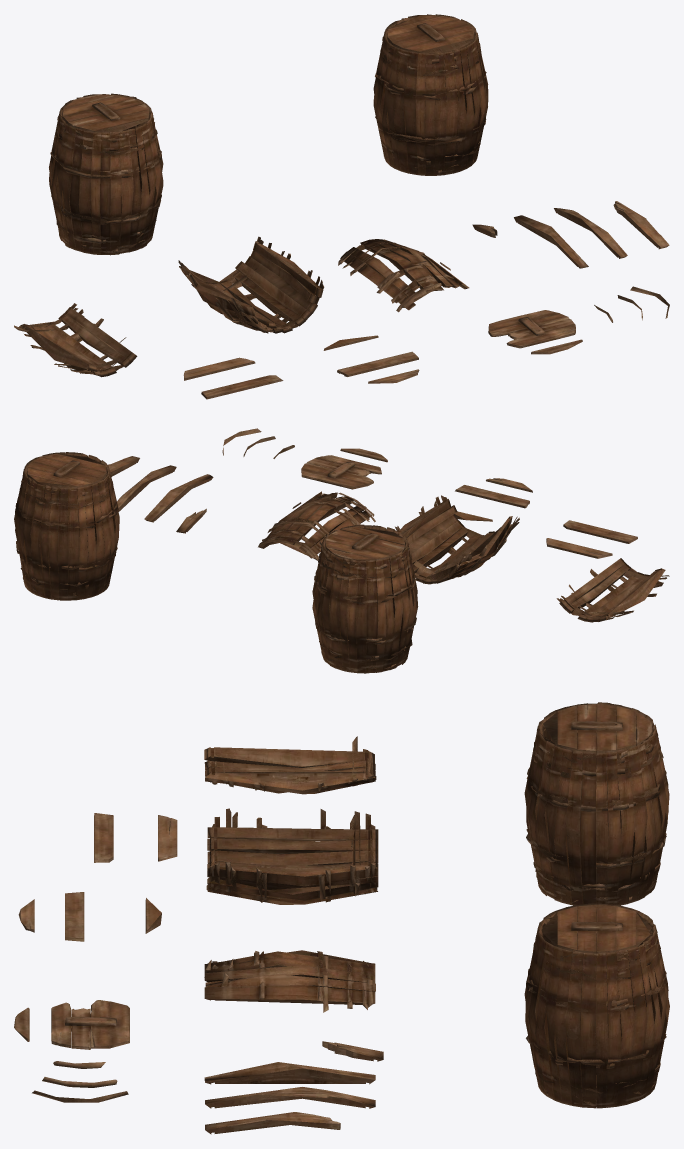
Rendered from wooden_barrels_01.glb.
3 views of the same model, one above another, from view 1: azimuth 30°, elevation 25°; view 2: azimuth 150°, elevation 25°; view 3: azimuth 270°, elevation 25° (orthographic). The views are drawn at different scales.
Parts seen in each view (by area): view 1: wooden_barrels_01_barrel01, wooden_barrels_01_barrel02, wooden_barrels_01_piece01, wooden_barrels_01_piece03, wooden_barrels_01_piece02, wooden_barrels_01_piece08, wooden_barrels_01_piece04, wooden_barrels_01_piece05, wooden_barrels_01_piece06, wooden_barrels_01_piece11, wooden_barrels_01_piece14, wooden_barrels_01_piece13; view 2: wooden_barrels_01_barrel02, wooden_barrels_01_barrel01, wooden_barrels_01_piece01, wooden_barrels_01_piece02, wooden_barrels_01_piece03, wooden_barrels_01_piece08, wooden_barrels_01_piece04, wooden_barrels_01_piece14, wooden_barrels_01_piece11, wooden_barrels_01_piece05, wooden_barrels_01_piece13; view 3: wooden_barrels_01_barrel01, wooden_barrels_01_barrel02, wooden_barrels_01_piece01, wooden_barrels_01_piece03, wooden_barrels_01_piece02, wooden_barrels_01_piece08, wooden_barrels_01_piece04, wooden_barrels_01_piece05, wooden_barrels_01_piece06, wooden_barrels_01_piece11, wooden_barrels_01_piece14, wooden_barrels_01_piece13 (+1 smaller).
Boxes of the visible parts, x1=… form: wooden_barrels_01_barrel01: x1=373, y1=14, x2=488, y2=175; wooden_barrels_01_barrel02: x1=49, y1=93, x2=163, y2=255; wooden_barrels_01_piece01: x1=178, y1=236, x2=324, y2=333; wooden_barrels_01_piece03: x1=338, y1=239, x2=469, y2=312; wooden_barrels_01_piece02: x1=14, y1=303, x2=137, y2=377; wooden_barrels_01_piece08: x1=488, y1=310, x2=575, y2=348; wooden_barrels_01_piece04: x1=514, y1=215, x2=588, y2=268; wooden_barrels_01_piece05: x1=554, y1=208, x2=627, y2=258; wooden_barrels_01_piece06: x1=613, y1=201, x2=669, y2=249; wooden_barrels_01_piece11: x1=337, y1=351, x2=418, y2=376; wooden_barrels_01_piece14: x1=201, y1=375, x2=283, y2=399; wooden_barrels_01_piece13: x1=183, y1=357, x2=255, y2=380; wooden_barrels_01_barrel02: x1=312, y1=524, x2=418, y2=673; wooden_barrels_01_barrel01: x1=14, y1=452, x2=119, y2=600; wooden_barrels_01_piece01: x1=395, y1=495, x2=519, y2=584; wooden_barrels_01_piece02: x1=556, y1=558, x2=669, y2=622; wooden_barrels_01_piece03: x1=258, y1=491, x2=375, y2=560; wooden_barrels_01_piece08: x1=301, y1=455, x2=381, y2=489; wooden_barrels_01_piece04: x1=144, y1=474, x2=213, y2=522; wooden_barrels_01_piece14: x1=563, y1=520, x2=637, y2=543; wooden_barrels_01_piece11: x1=455, y1=485, x2=529, y2=508; wooden_barrels_01_piece05: x1=117, y1=465, x2=176, y2=511; wooden_barrels_01_piece13: x1=546, y1=538, x2=612, y2=558; wooden_barrels_01_barrel01: x1=524, y1=903, x2=669, y2=1108; wooden_barrels_01_barrel02: x1=524, y1=702, x2=669, y2=905; wooden_barrels_01_piece01: x1=206, y1=808, x2=378, y2=904; wooden_barrels_01_piece03: x1=204, y1=950, x2=375, y2=1012; wooden_barrels_01_piece02: x1=204, y1=736, x2=376, y2=794; wooden_barrels_01_piece08: x1=51, y1=1000, x2=129, y2=1049; wooden_barrels_01_piece04: x1=204, y1=1062, x2=375, y2=1084; wooden_barrels_01_piece05: x1=205, y1=1087, x2=375, y2=1108; wooden_barrels_01_piece06: x1=205, y1=1112, x2=340, y2=1134; wooden_barrels_01_piece11: x1=65, y1=892, x2=84, y2=941; wooden_barrels_01_piece14: x1=94, y1=813, x2=113, y2=862; wooden_barrels_01_piece13: x1=158, y1=815, x2=177, y2=861.
Bounding box in the file's own units: 4.44 × 0.9322 × 3.34.
3 materials, 3 textured.
